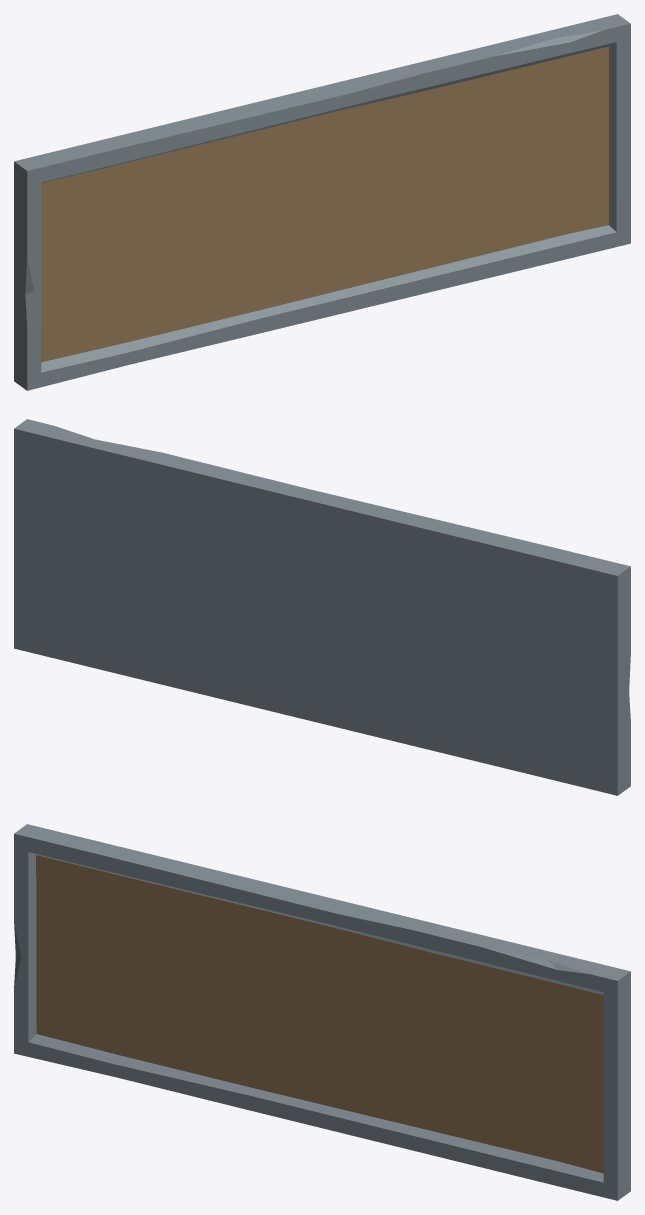
File: SM_Sign_Backing_Short_02.obj
3 renders of one model, top to bottom at view 1: azimuth 30°, elevation 25°; view 2: azimuth 150°, elevation 25°; view 3: azimuth 330°, elevation 25°, orthographic.
Parts seen in each view (by area): view 1: SM_Sign_Backing_Short_02_0; view 2: SM_Sign_Backing_Short_02_0; view 3: SM_Sign_Backing_Short_02_0.
Boxes of the visible parts, <box> form: SM_Sign_Backing_Short_02_0: <box>14,14,630,390</box>; SM_Sign_Backing_Short_02_0: <box>14,419,630,795</box>; SM_Sign_Backing_Short_02_0: <box>14,824,630,1200</box>.
Size of the model in its own units: 5.51 by 1.92 by 0.2083.
Materials: 1 (1 with a texture image).
